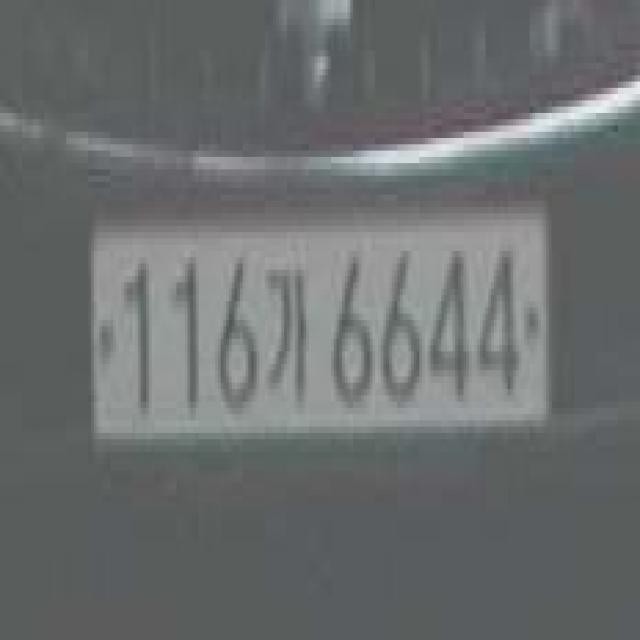illegal_plate: (87, 185, 553, 472)
